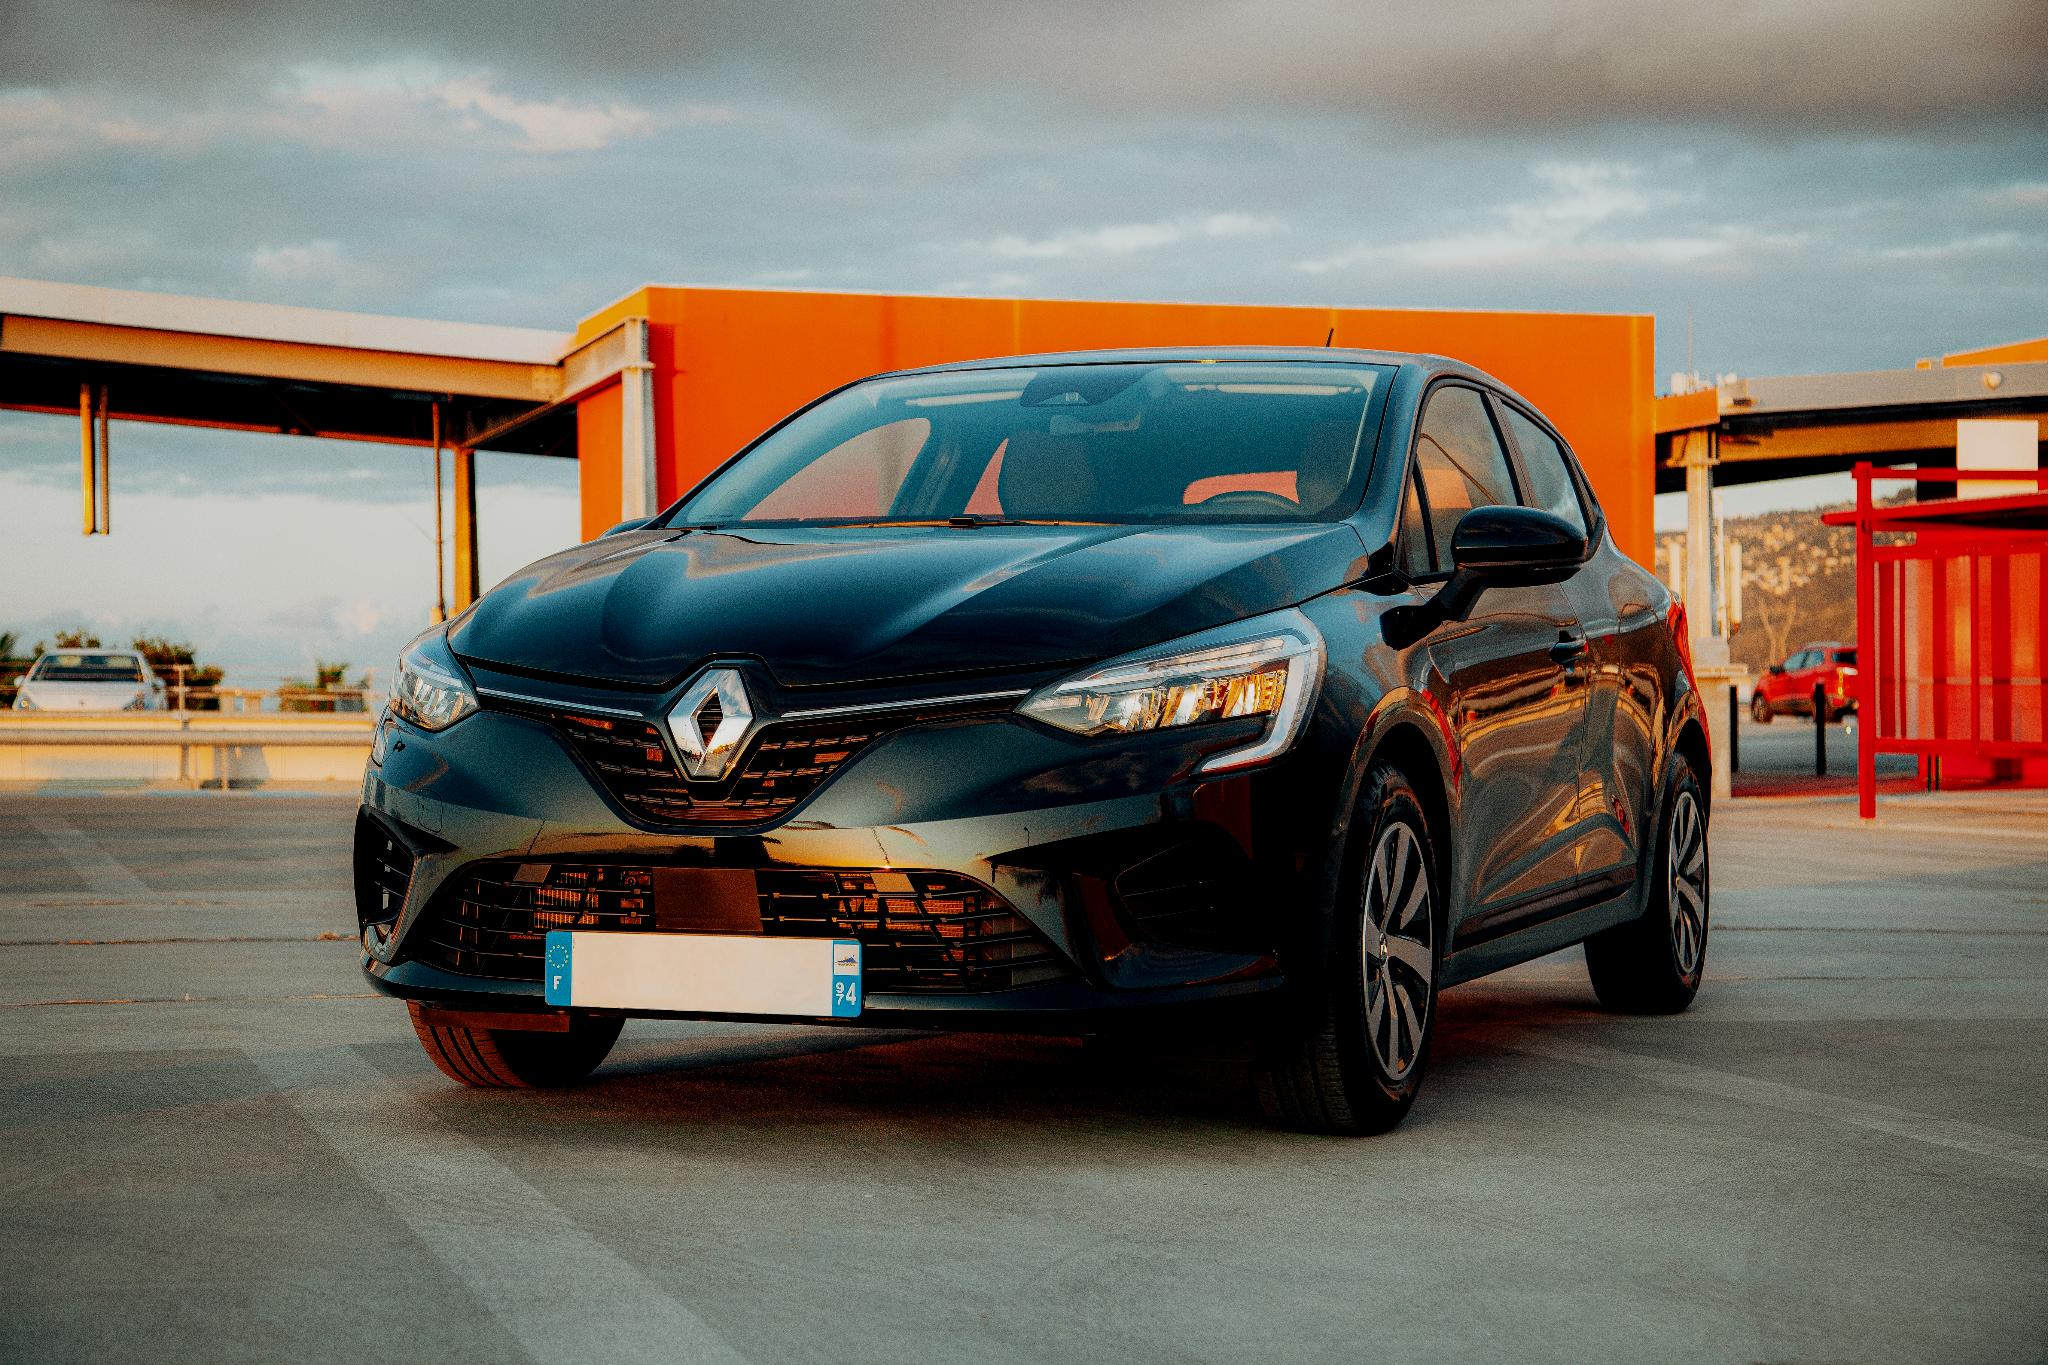Renault: (633, 644, 783, 810)
